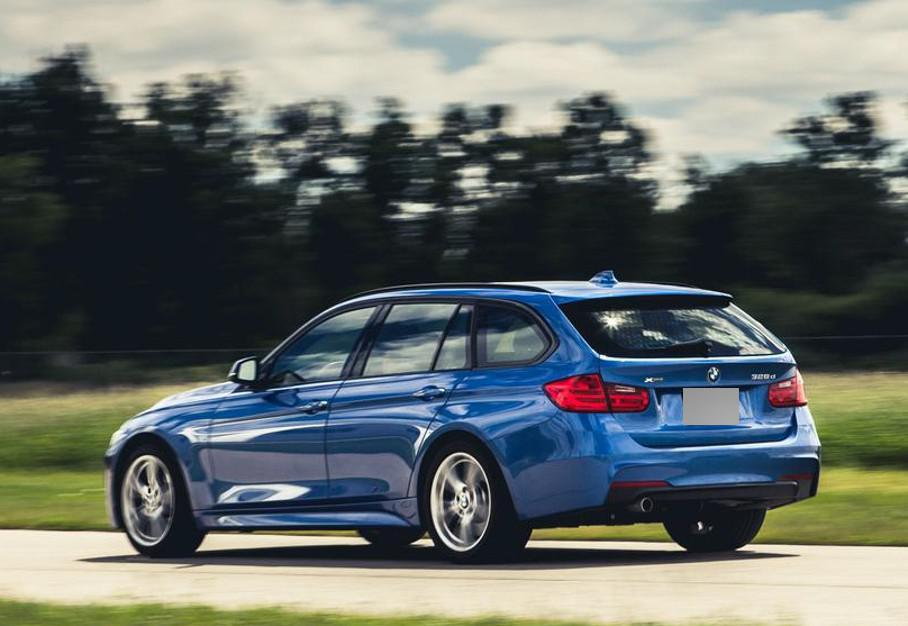Wagon: (105, 280, 821, 565)
